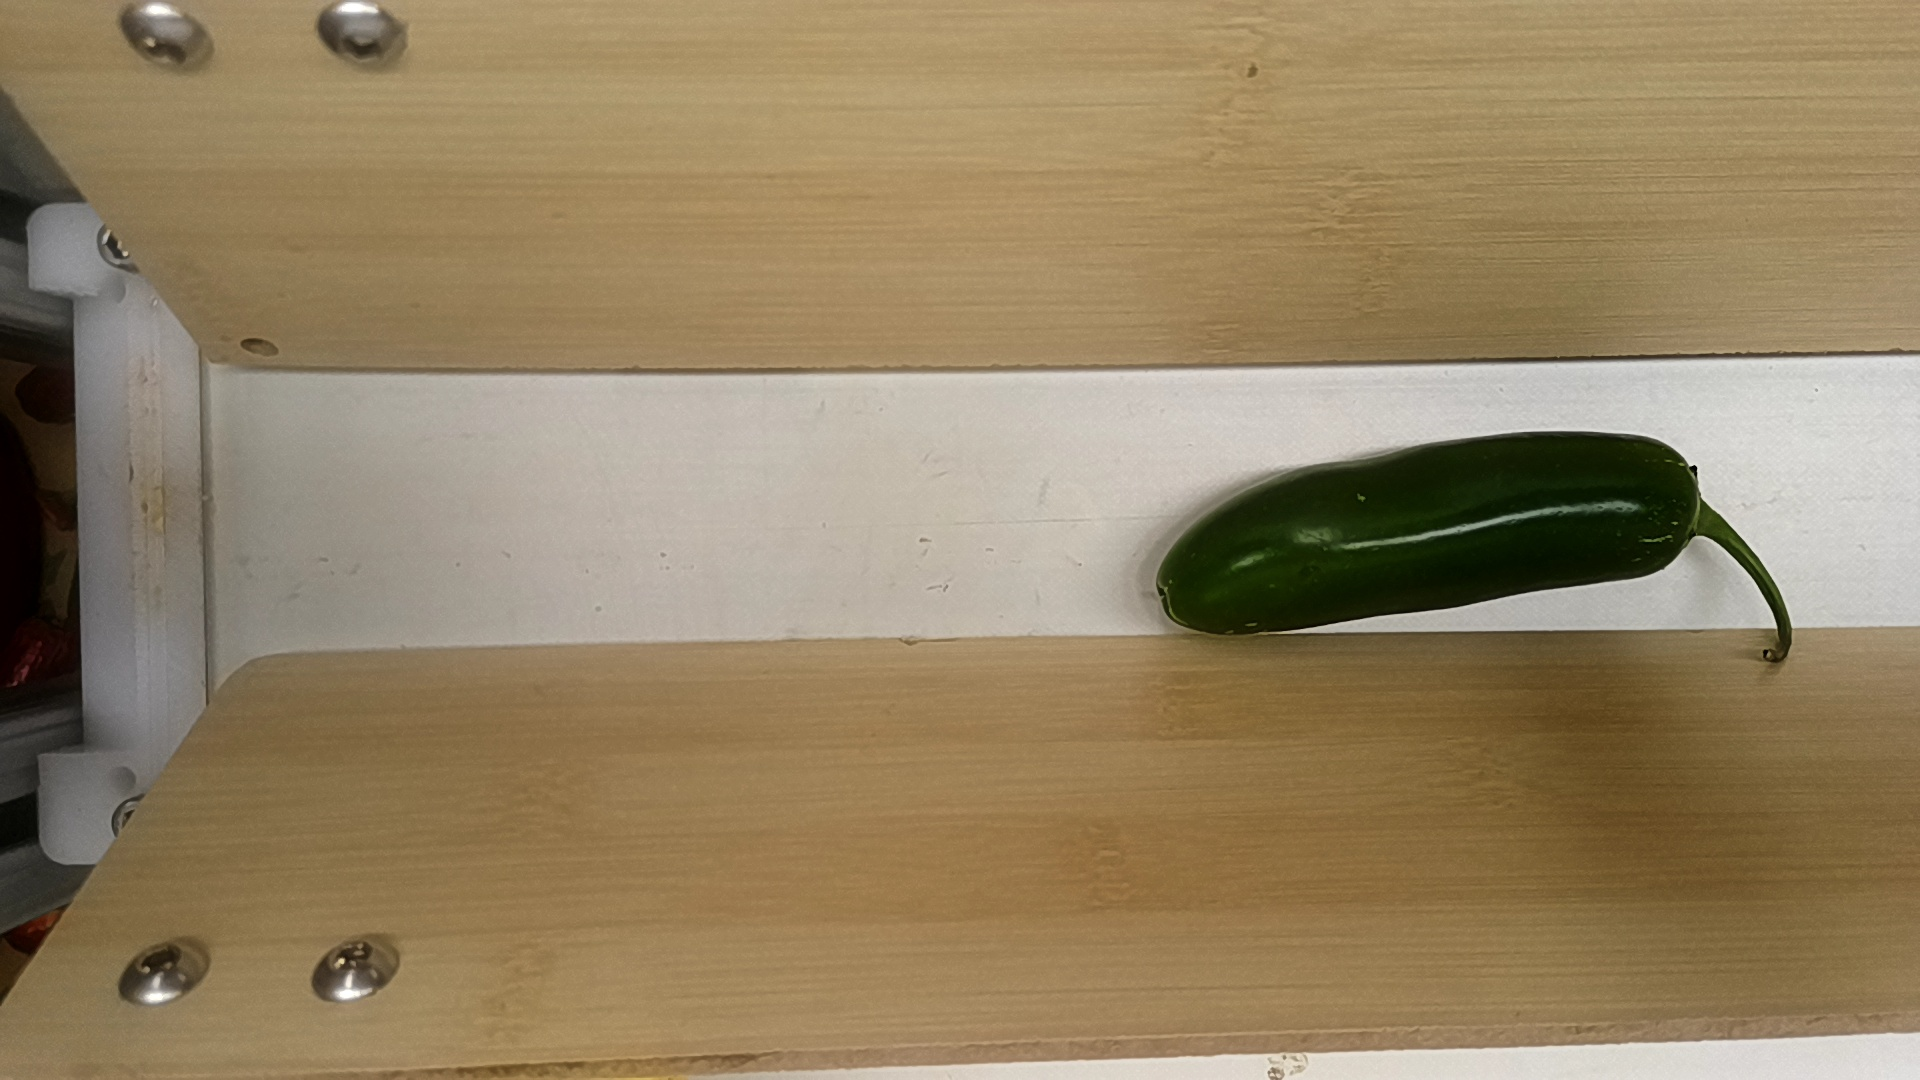Cut Point: (1640, 426, 1724, 579)
